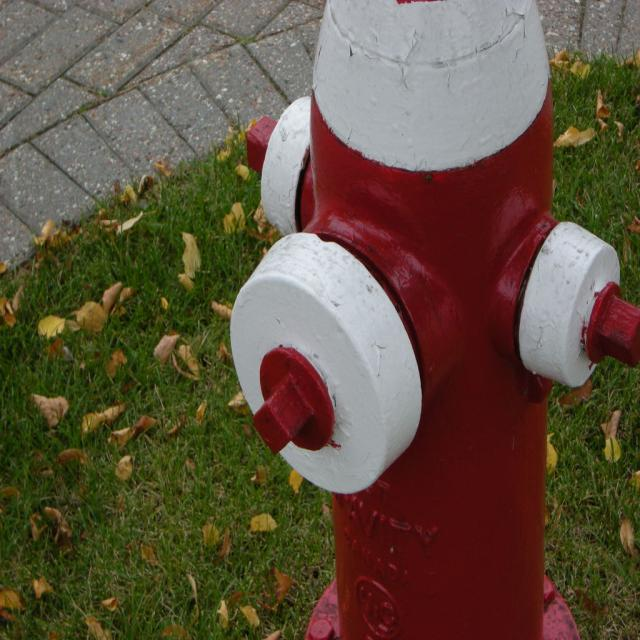fire_hydrant: (230, 0, 639, 639)
